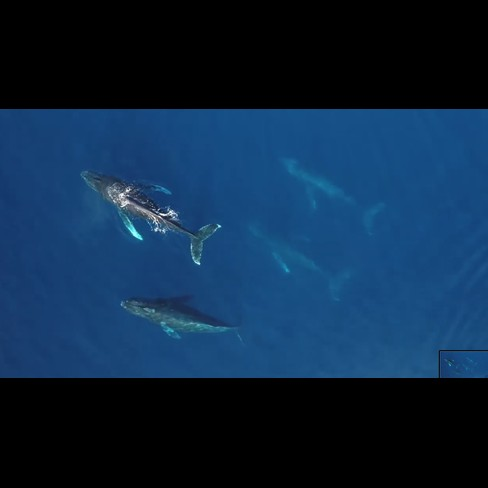hump: (75, 163, 224, 268), (240, 216, 356, 305), (275, 150, 389, 239), (117, 289, 254, 355)
